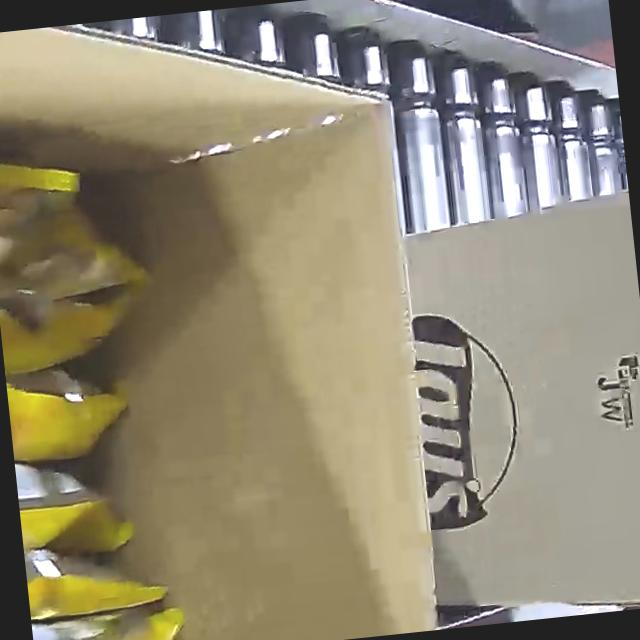salted: (0, 91, 194, 640)
